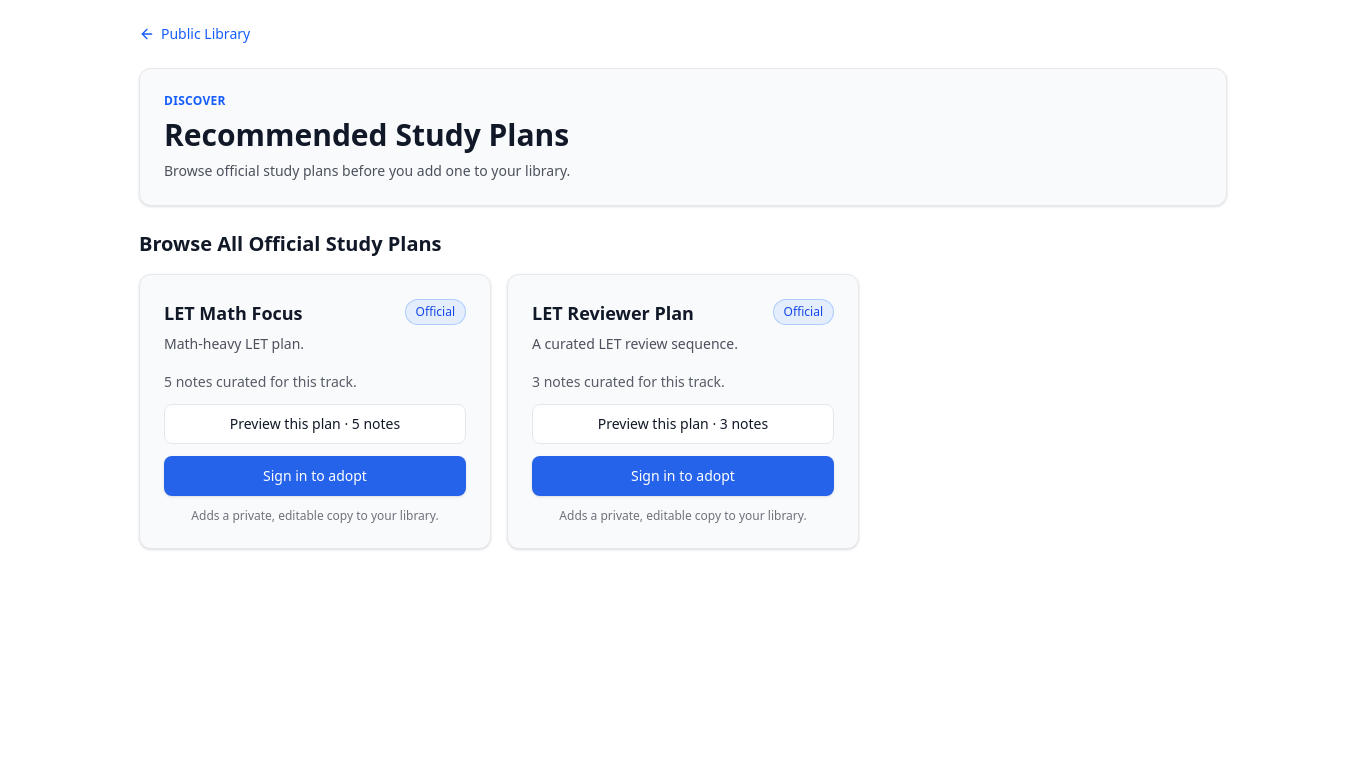
Test case: PublishedPlansPage › lets anonymous visitors browse and preview plans without loading private profile data
The width and height of the screenshot is (1366, 768).
Check: the heading "Browse All Official Study Plans" is shown, box [139, 230, 442, 257]
Check: the number of buttons "Sign in to adopt" is 2, box [164, 456, 466, 496]; [532, 456, 834, 496]
Click the button "Preview this plan · 5 notes" at (315, 424), box [164, 404, 466, 444]
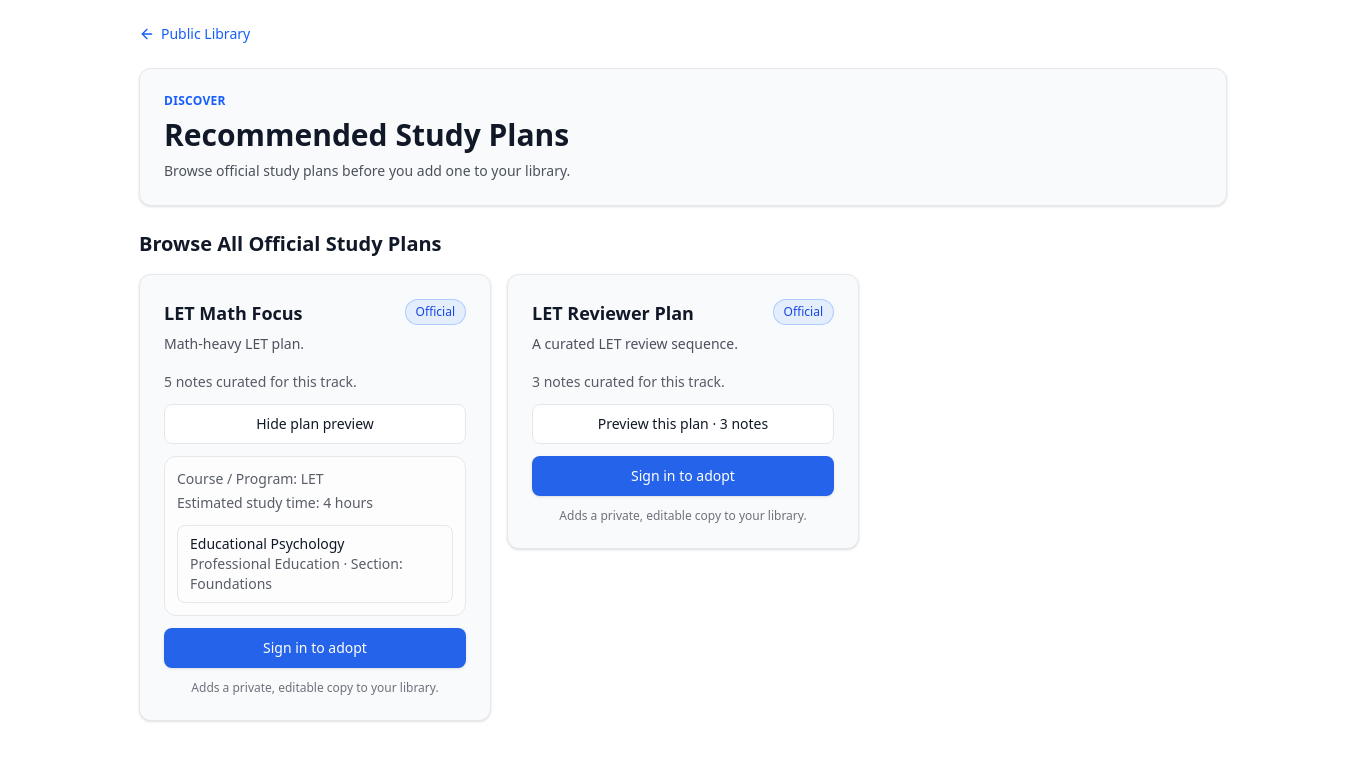
Check: the text "Educational Psychology" is shown, box [190, 534, 344, 553]
